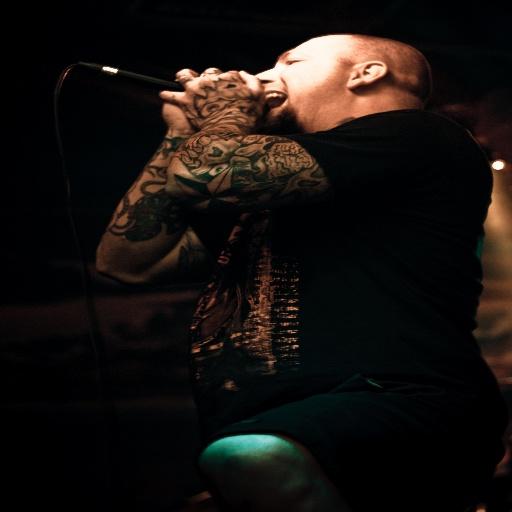hand: (156, 63, 262, 116), (159, 99, 196, 135)
